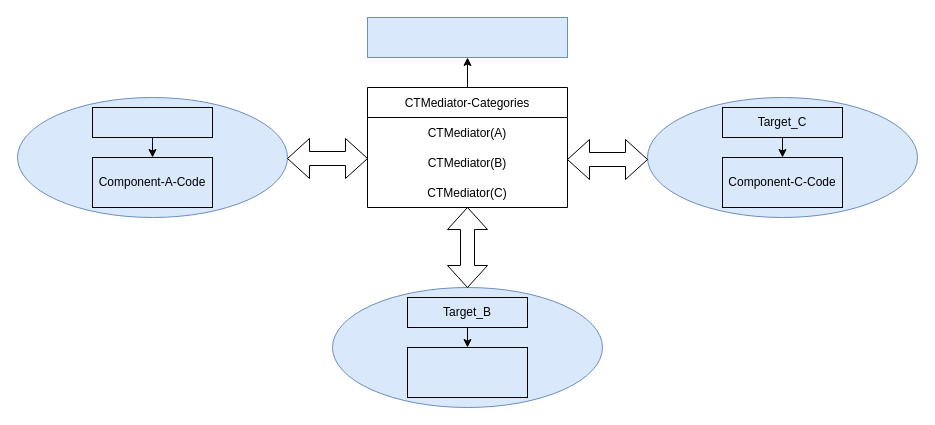
Some shapes in this 935 by 425 pixel diagram are drawn without their labels. The centre of each missing label's shape, as x and y in pixels:
"Component-B-Code" belongs at point (467, 372).
"CTMediator" belongs at point (467, 37).
"Target_A" belongs at point (152, 122).
